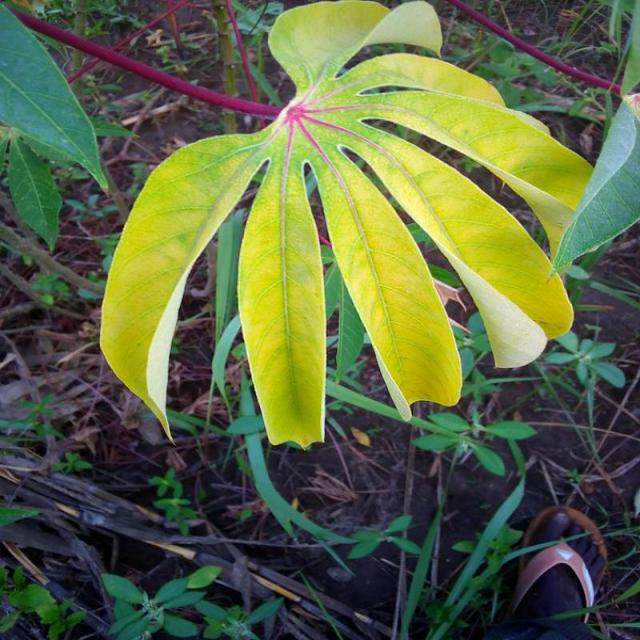cassava leaf: (99, 0, 598, 452)
